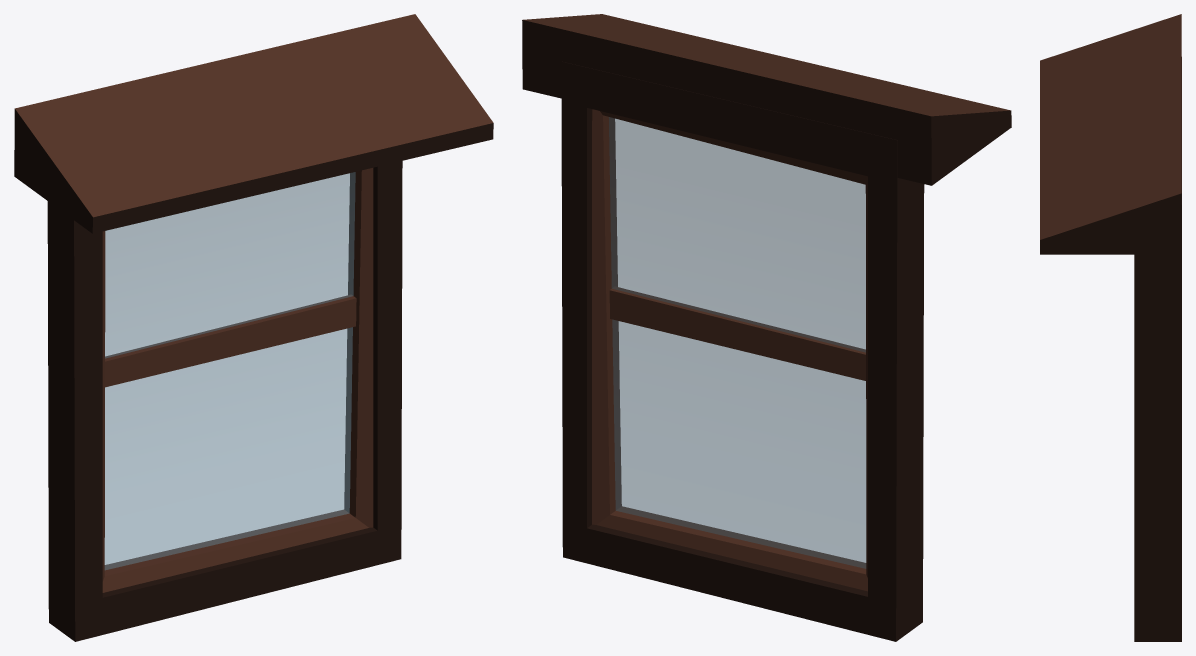
File: Window 1x2 V3 Closed.glb
3 views of the same model, side by side, from view 1: azimuth 30°, elevation 25°; view 2: azimuth 150°, elevation 25°; view 3: azimuth 270°, elevation 25° (orthographic). The views are drawn at different scales.
Visible parts, largest first — view 1: Window 1x2 V3 Closed; view 2: Window 1x2 V3 Closed; view 3: Window 1x2 V3 Closed.
Part boxes in pixels (bbox=[...]): Window 1x2 V3 Closed: bbox=[14, 14, 493, 641]; Window 1x2 V3 Closed: bbox=[522, 14, 1011, 641]; Window 1x2 V3 Closed: bbox=[1040, 14, 1181, 641].
Size of the model in its own units: 1.41 by 1.75 by 0.4769.
2 materials, 2 textured.
